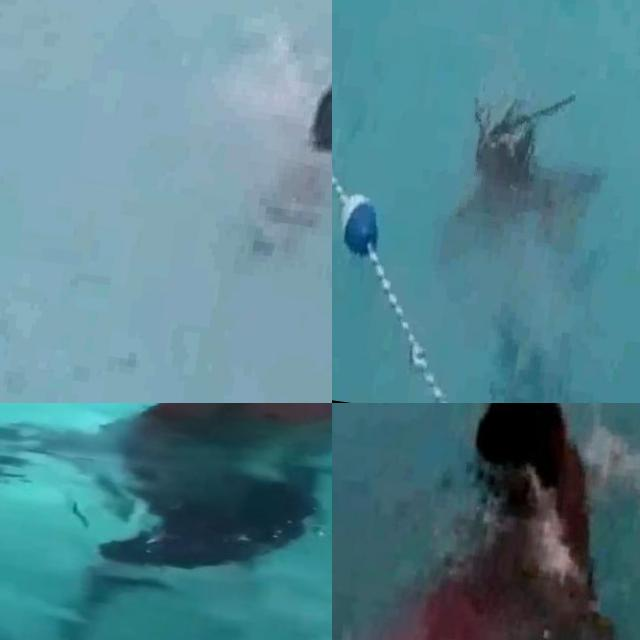drowning: (412, 403, 640, 640), (426, 48, 624, 312), (210, 24, 332, 258)
swimming: (16, 403, 332, 562)
